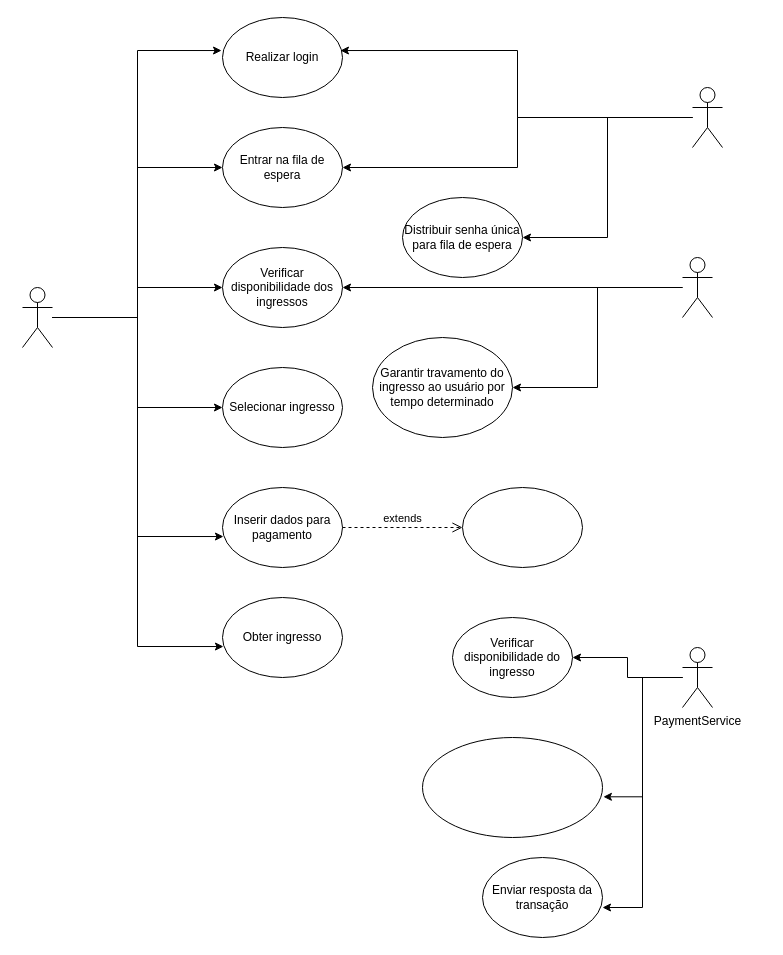
Image size: 783x955. Some labels were removed from this diagram. The shapes that lost their labels are listed below. From the top down, each one's centre as x and y in pixels, then its label:
pixel 707 117: AuthenticationService
pixel 697 287: VerificationService
pixel 37 317: Usuário
pixel 522 527: Receber resposta da transação
pixel 512 787: "Lockar" transação para garantir integridade do processamento do pagamento
